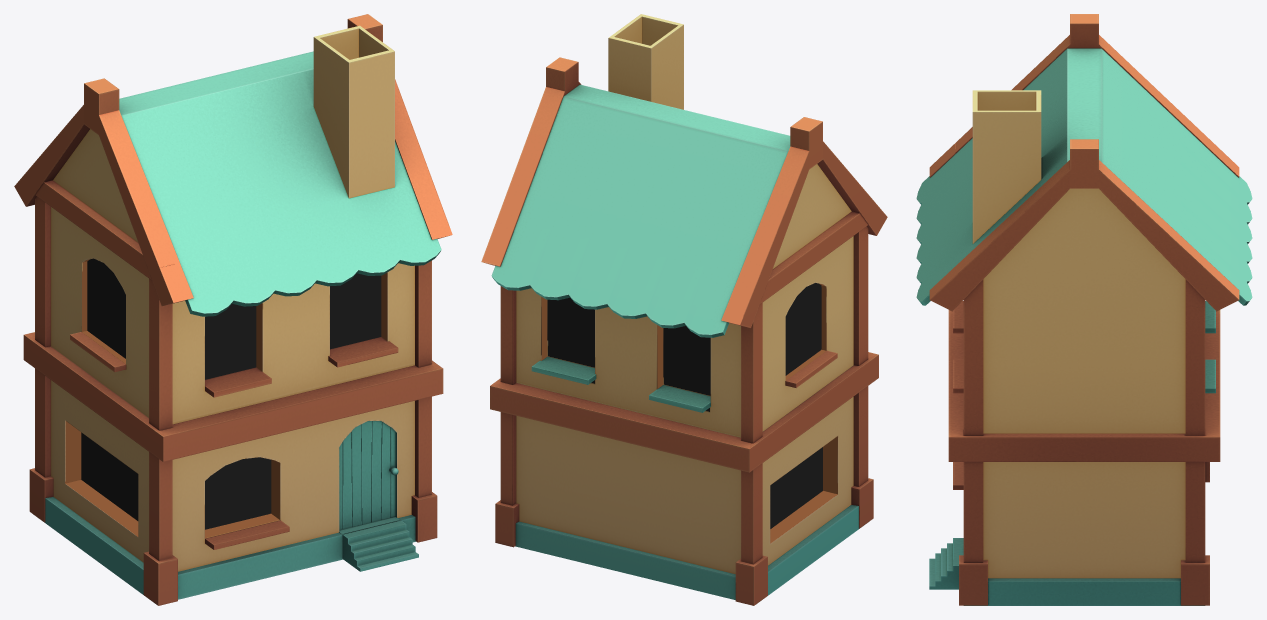
Rendered from HouseNPC.fbx.
The picture shows the model from 3 angles, left to right: view 1: azimuth 30°, elevation 25°; view 2: azimuth 150°, elevation 25°; view 3: azimuth 270°, elevation 25°; orthographic projection. The views are drawn at different scales.
Visible parts, largest first — view 1: Cube.004; view 2: Cube.004; view 3: Cube.004.
Part boxes in pixels (<box>): Cube.004: <box>14,14,452,605</box>; Cube.004: <box>481,14,887,605</box>; Cube.004: <box>916,14,1252,605</box>.
Bounding box in the file's own units: 329 × 544 × 347.
1 material, 1 textured.
